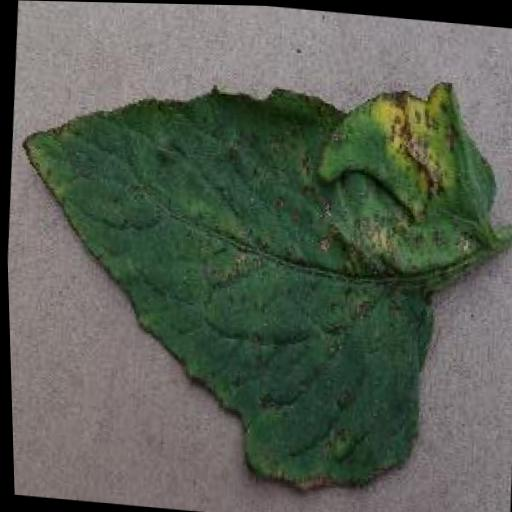Bacterial Spot: (1, 32, 512, 512)
